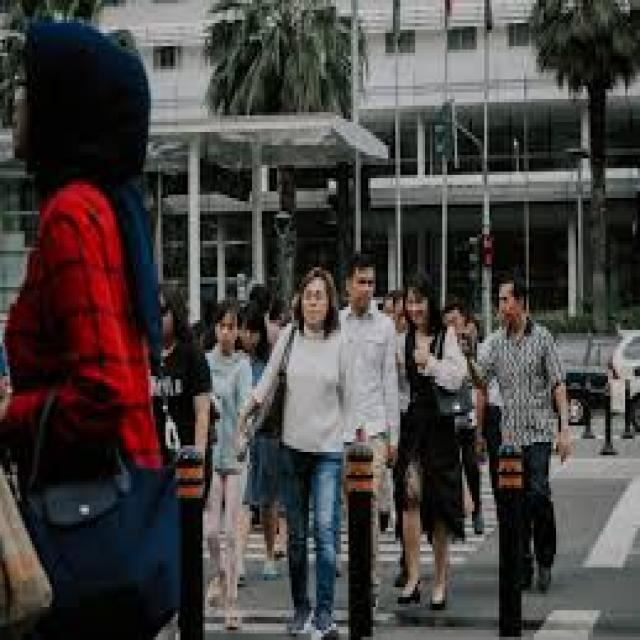Passenger Car: (603, 317, 640, 442)
Pedestrians: (12, 13, 180, 637), (477, 270, 576, 594), (264, 264, 346, 637), (395, 271, 467, 607), (343, 251, 398, 587), (208, 294, 252, 630)
